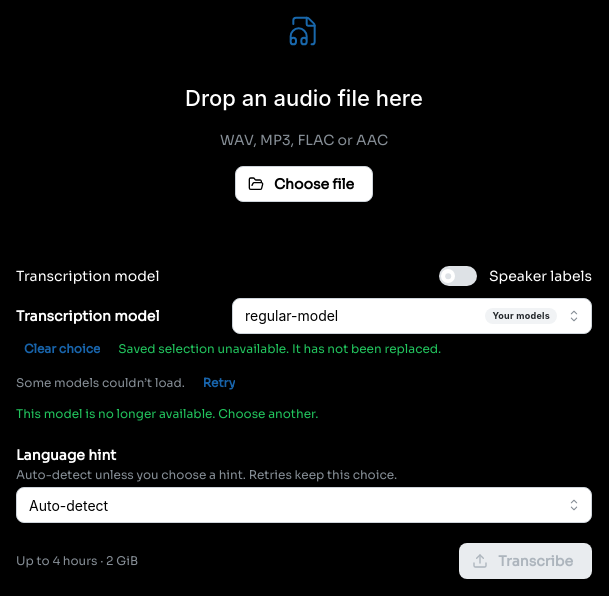
File transcription › uses the native picker without automatically uploading
Click the button "Choose file": (304, 184) [235,166,373,202]
Wait 2 ms
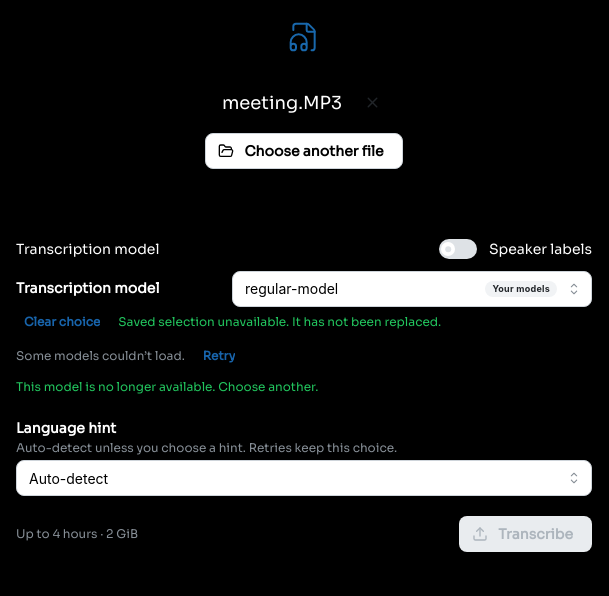
Expected: the text "meeting.MP3" is shown, [222,89,342,117]
